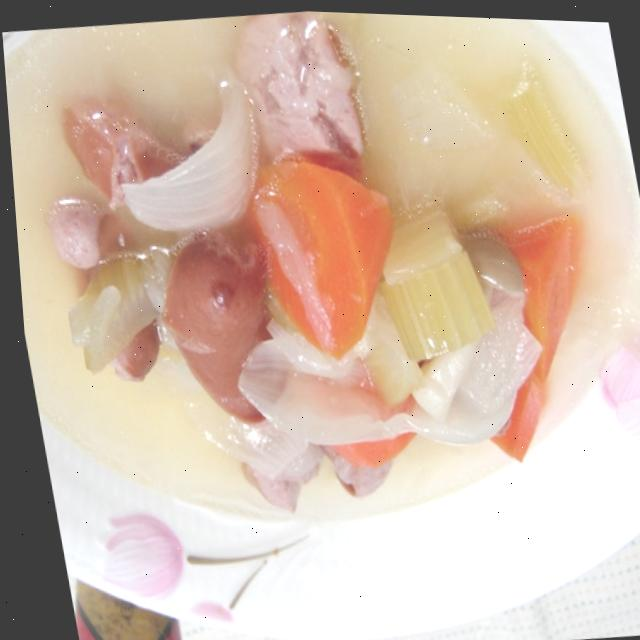汤锅炖物: (0, 0, 640, 601)
